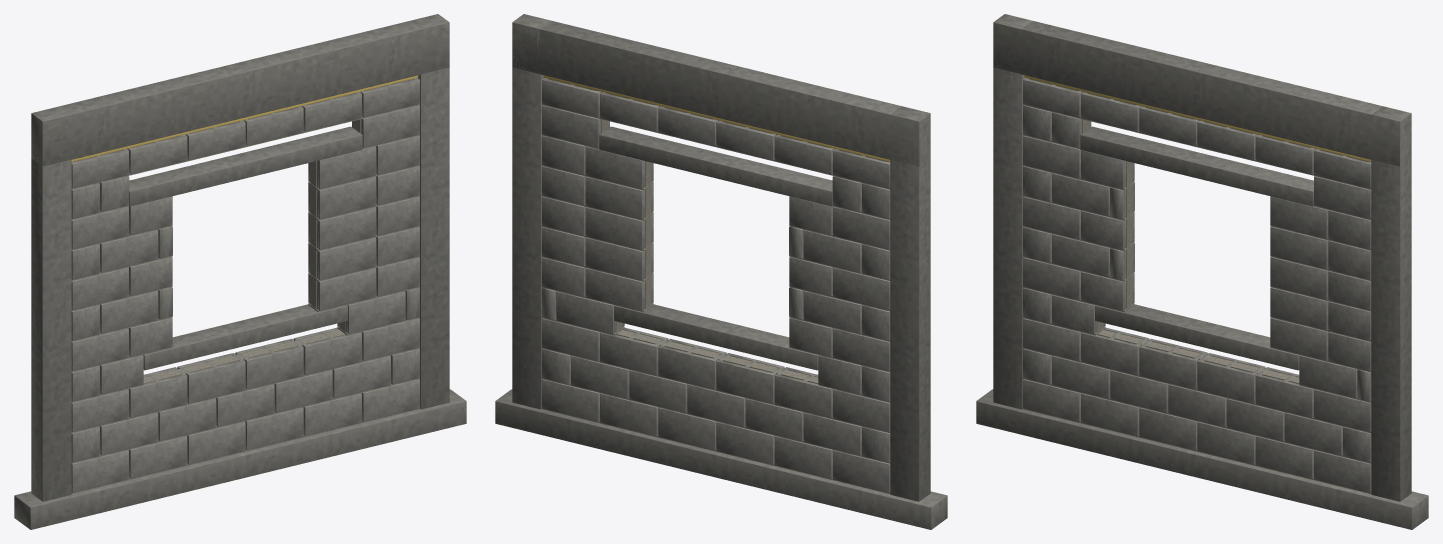
The model's file is KIT-ALV-02_lod1.glb.
3 renders of one model, left to right at view 1: azimuth 30°, elevation 25°; view 2: azimuth 150°, elevation 25°; view 3: azimuth 330°, elevation 25°, orthographic.
Visible parts, largest first — view 1: KIT-ALV-02_viga, KIT-ALV-02_pilar-1, KIT-ALV-02_base, KIT-ALV-02_pilar1, KIT-ALV-02_verga, KIT-ALV-02_contraverga, KIT-ALV-02, KIT-ALV-02_u16, KIT-ALV-02_u15, KIT-ALV-02_u17, KIT-ALV-02_u14, KIT-ALV-02_u30 (+52 smaller); view 2: KIT-ALV-02_viga, KIT-ALV-02_pilar-1, KIT-ALV-02_base, KIT-ALV-02_pilar1, KIT-ALV-02_verga, KIT-ALV-02_contraverga, KIT-ALV-02, KIT-ALV-02_u16, KIT-ALV-02_u15, KIT-ALV-02_u17, KIT-ALV-02_u14, KIT-ALV-02_u30 (+52 smaller); view 3: KIT-ALV-02_viga, KIT-ALV-02_pilar1, KIT-ALV-02_base, KIT-ALV-02_pilar-1, KIT-ALV-02_verga, KIT-ALV-02_contraverga, KIT-ALV-02_u15, KIT-ALV-02_u16, KIT-ALV-02_u14, KIT-ALV-02_u17, KIT-ALV-02_u3, KIT-ALV-02_u7 (+54 smaller).
Boxes of the visible parts, bbox=[...] form: KIT-ALV-02_viga: bbox=[31, 21, 449, 166]; KIT-ALV-02_pilar-1: bbox=[31, 106, 71, 501]; KIT-ALV-02_base: bbox=[14, 389, 466, 529]; KIT-ALV-02_pilar1: bbox=[410, 14, 449, 409]; KIT-ALV-02_verga: bbox=[129, 126, 362, 206]; KIT-ALV-02_contraverga: bbox=[143, 304, 347, 370]; KIT-ALV-02: bbox=[308, 119, 419, 335]; KIT-ALV-02_u16: bbox=[235, 338, 303, 389]; KIT-ALV-02_u15: bbox=[177, 353, 245, 403]; KIT-ALV-02_u17: bbox=[293, 327, 361, 375]; KIT-ALV-02_u14: bbox=[128, 367, 187, 417]; KIT-ALV-02_u30: bbox=[308, 237, 376, 280]; KIT-ALV-02_viga: bbox=[512, 21, 930, 166]; KIT-ALV-02_pilar-1: bbox=[890, 106, 930, 501]; KIT-ALV-02_base: bbox=[495, 389, 947, 529]; KIT-ALV-02_pilar1: bbox=[512, 14, 551, 409]; KIT-ALV-02_verga: bbox=[599, 126, 832, 206]; KIT-ALV-02_contraverga: bbox=[614, 304, 818, 370]; KIT-ALV-02: bbox=[542, 119, 653, 335]; KIT-ALV-02_u16: bbox=[658, 338, 726, 389]; KIT-ALV-02_u15: bbox=[716, 353, 784, 403]; KIT-ALV-02_u17: bbox=[600, 327, 668, 375]; KIT-ALV-02_u14: bbox=[774, 367, 833, 417]; KIT-ALV-02_u30: bbox=[585, 237, 653, 280]; KIT-ALV-02_viga: bbox=[993, 21, 1399, 166]; KIT-ALV-02_pilar1: bbox=[1371, 106, 1411, 501]; KIT-ALV-02_base: bbox=[976, 389, 1428, 529]; KIT-ALV-02_pilar-1: bbox=[993, 14, 1032, 409]; KIT-ALV-02_verga: bbox=[1080, 126, 1313, 206]; KIT-ALV-02_contraverga: bbox=[1095, 304, 1299, 370]; KIT-ALV-02_u15: bbox=[1139, 338, 1207, 389]; KIT-ALV-02_u16: bbox=[1197, 353, 1265, 403]; KIT-ALV-02_u14: bbox=[1081, 327, 1149, 375]; KIT-ALV-02_u17: bbox=[1255, 367, 1314, 417]; KIT-ALV-02_u3: bbox=[1197, 421, 1256, 464]; KIT-ALV-02_u7: bbox=[1052, 356, 1110, 398].
Size of the model in its own units: 3 by 2.65 by 0.2.
4 materials, 4 textured.
